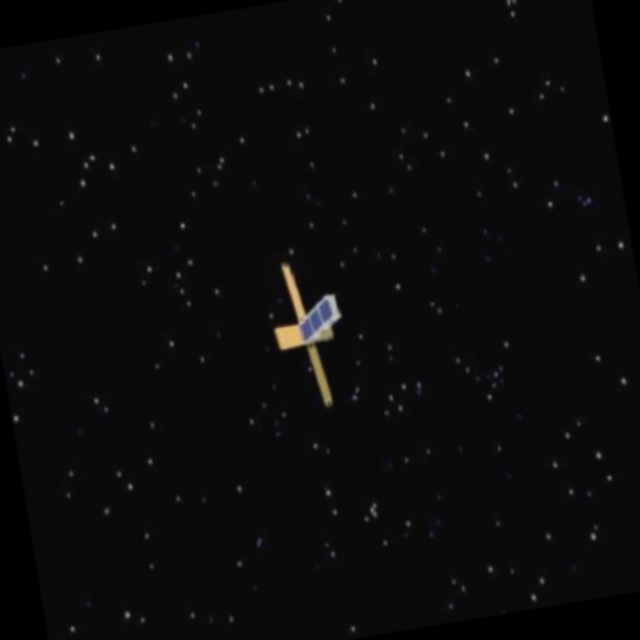medium_debris: (245, 237, 378, 423)
